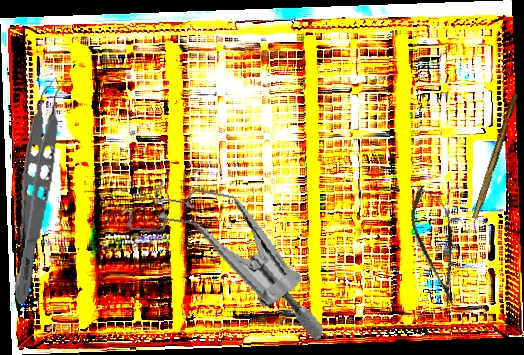Micro Scissor: (403, 181, 470, 309)
Scalpel Handle: (472, 92, 519, 221)
Speculum: (105, 171, 346, 342)
Tissue Forceps: (9, 75, 72, 307)
